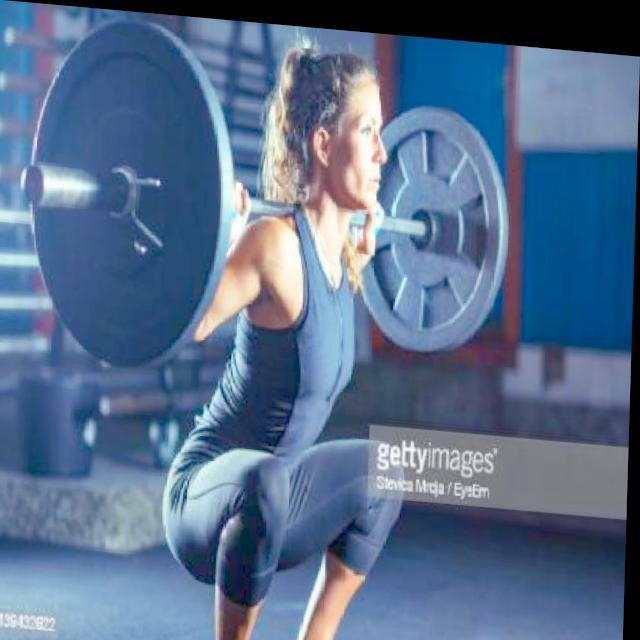barbell: (15, 3, 235, 381)
